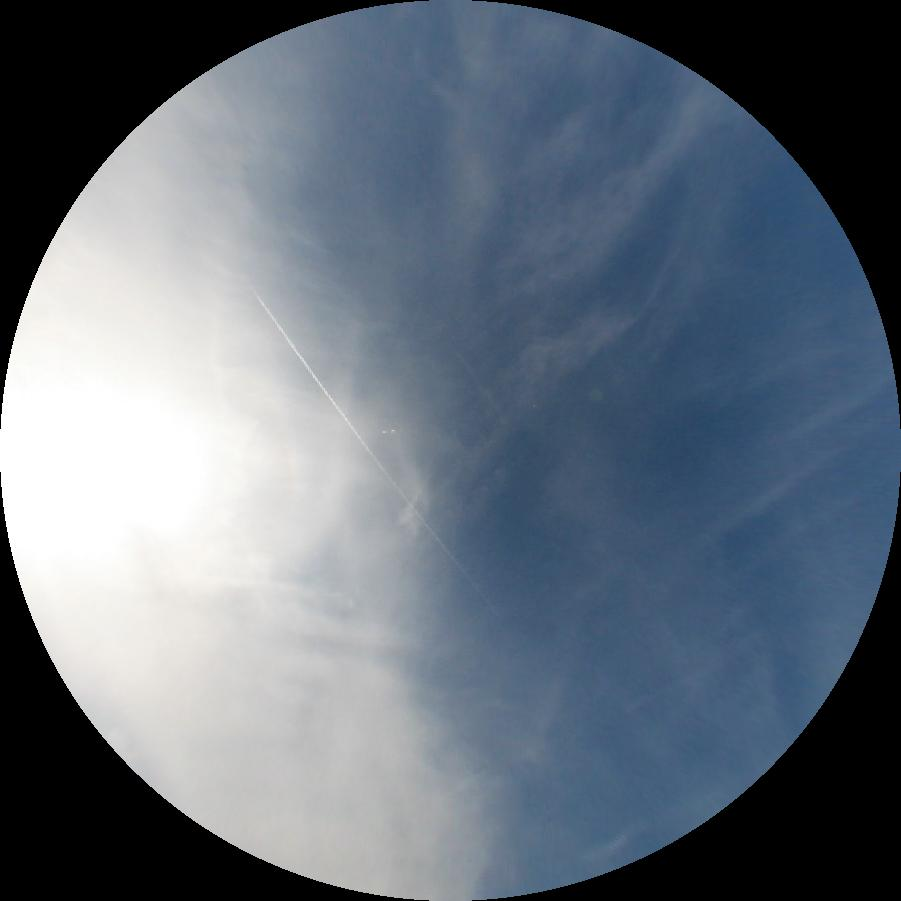contrail young: (250, 283, 502, 616)
sun: (0, 374, 202, 554)
unknow: (459, 352, 508, 425)
